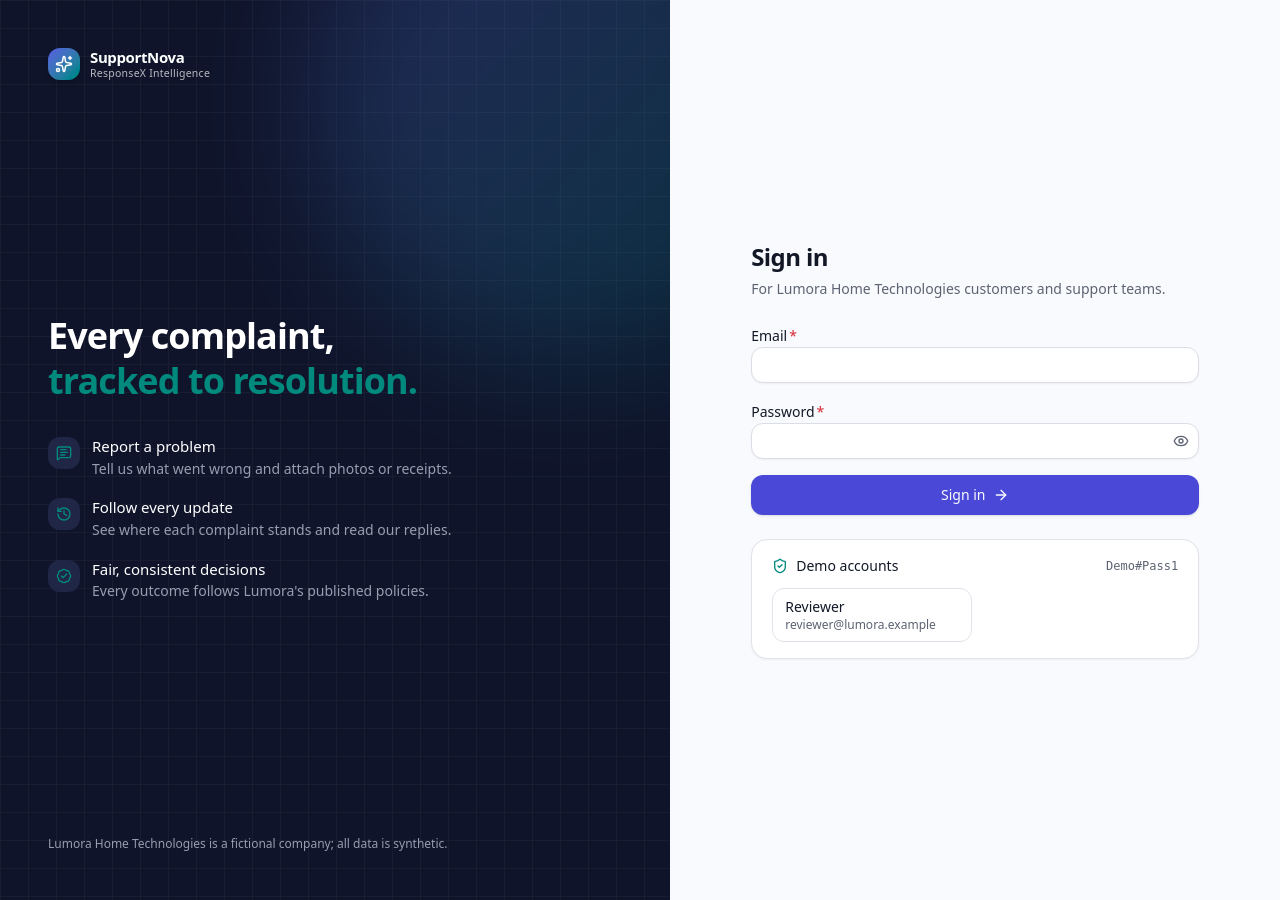
Scenario: login form › fills a demo account served by the backend and shows server errors
Click the button with aria-label "fill in the reviewer demo account": (872, 615) 772,588 -> 972,642
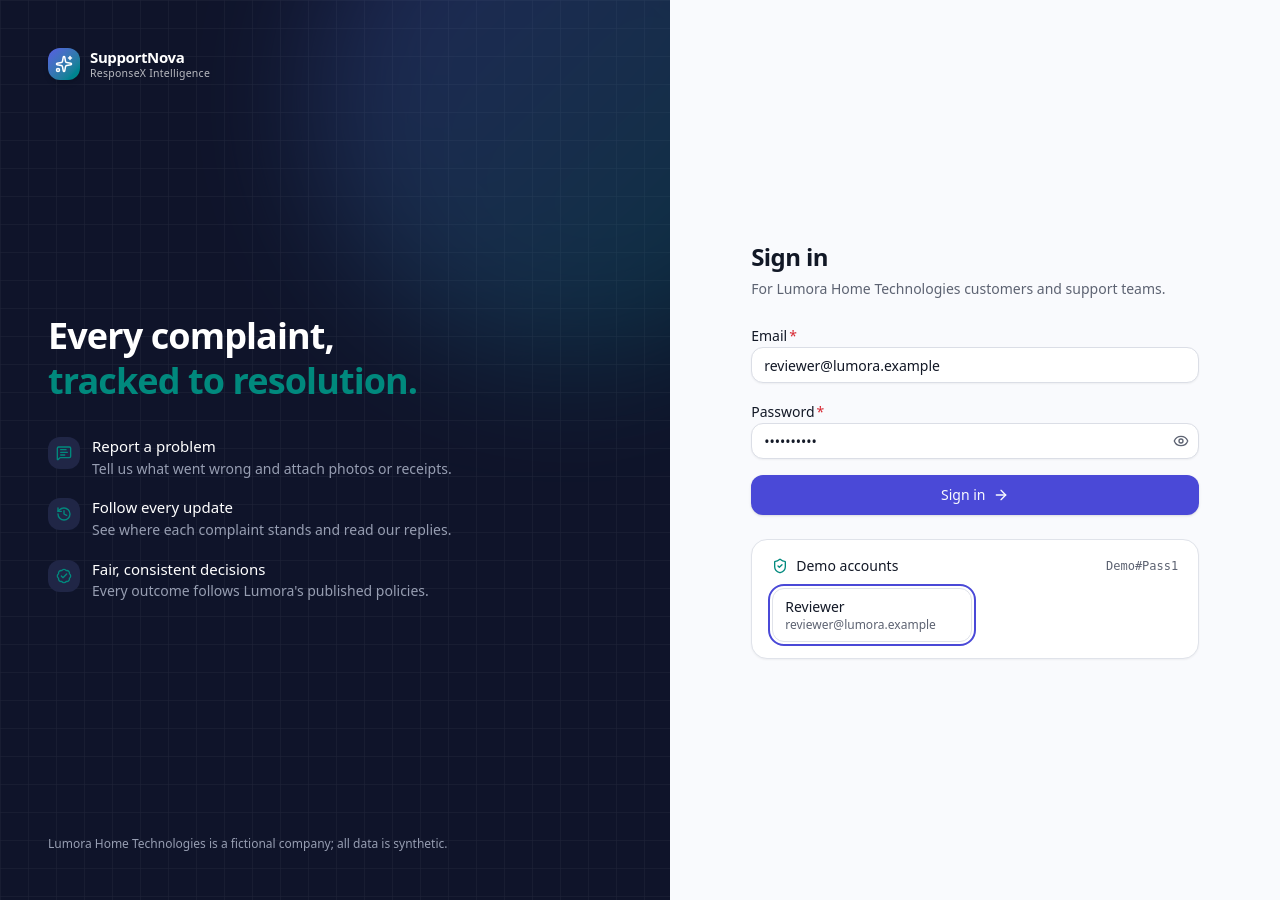
Result: the field labelled "Email*" holds "reviewer@lumora.example" at 751,347 -> 1199,383
Click the button "Sign in": (975, 495) 751,475 -> 1199,515
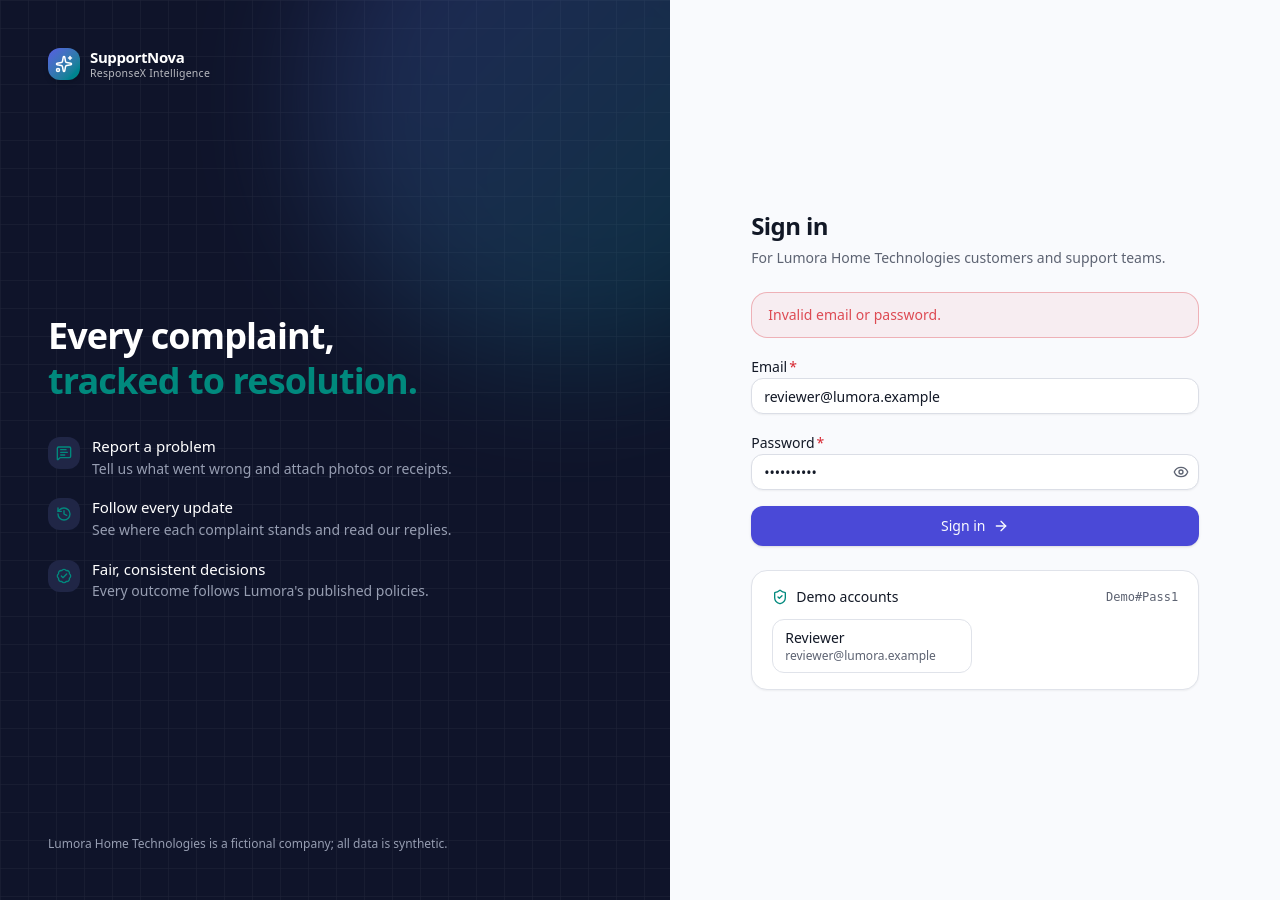
Result: the text "Invalid email or password." is shown at 768,305 -> 941,324
